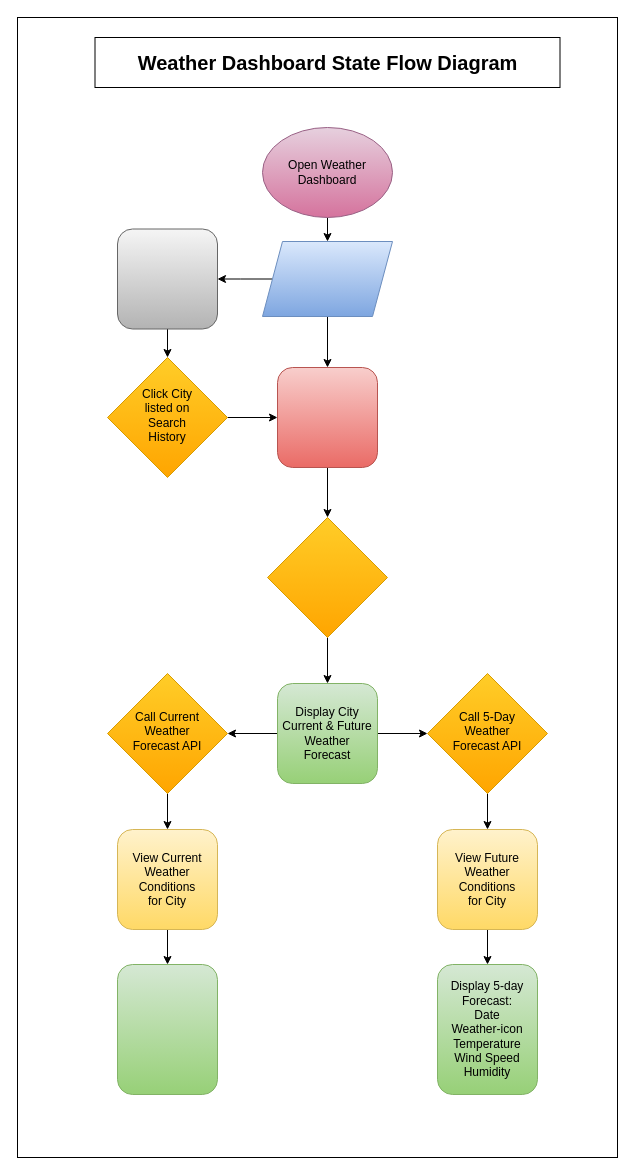
Some shapes in this 635 by 1175 pixel diagram are drawn without their labels. Here are the shapes that lost their labels. From the top down, the centre of each, then its label:
At point 167,278: "Update Search History".
At point 327,278: "Search for a City".
At point 327,417: "Weather Dashboard Function".
At point 327,577: "Call Geocoding API".
At point 167,1029: "Display City: Name Date Weather-icon Temperature Wind Speed Humidity".
